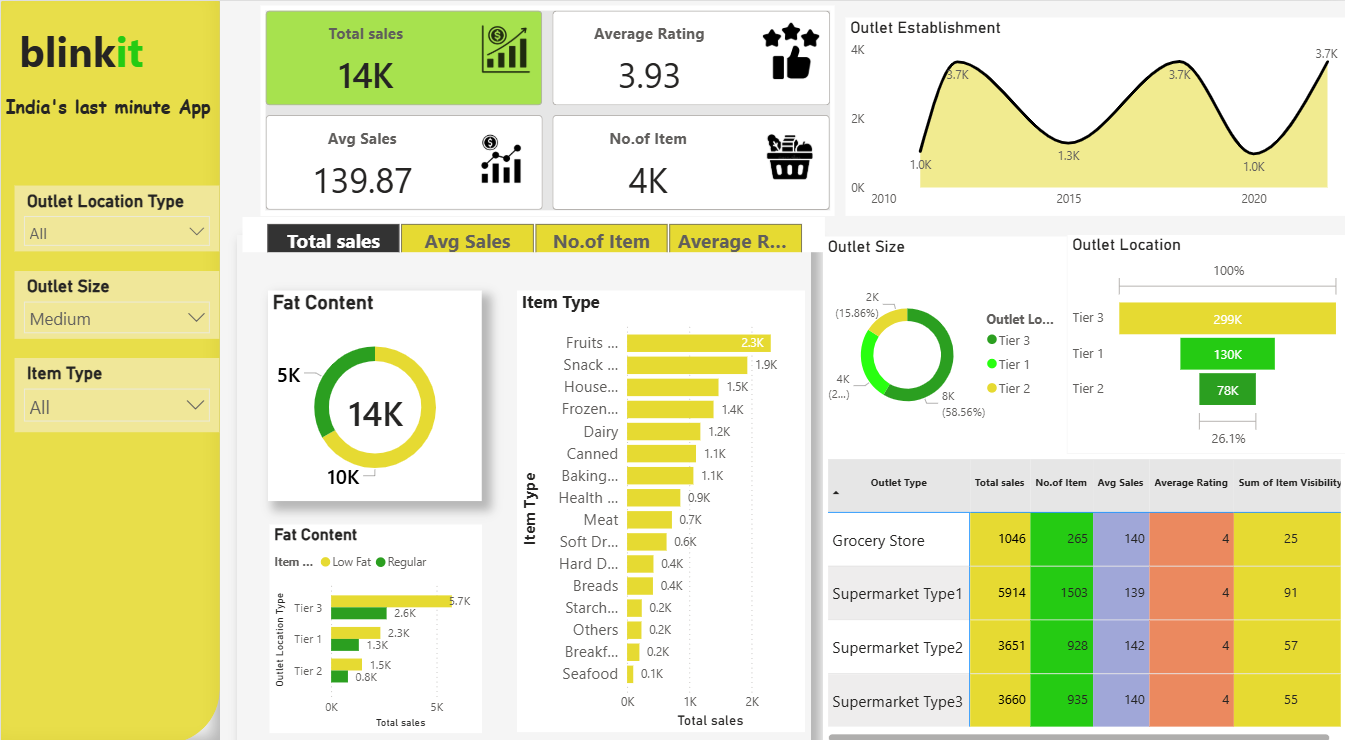

The dashboard page shown, as its layout file describes it:
{"tool":"powerbi","page":{"name":"Page 1","canvas":[1400,800],"ordinal":0},"visuals":[{"type":"shape","box":[0,0,228,774],"z":0},{"type":"textbox","box":[14.3,17.5,163.9,73.2],"z":1000},{"type":"textbox","box":[0,90.7,237.1,46.2],"z":2000},{"type":"cardVisual","fields":{"Data":["BlinkIT-Grocery-Data.Total sales","BlinkIT-Grocery-Data.Avg Sales","BlinkIT-Grocery-Data.Average Rating","BlinkIT-Grocery-Data.No.of Item"]},"box":[270.3,4.4,598.1,219.3],"z":3000},{"type":"shape","box":[246,243,598,541],"z":4000},{"type":"slicer","fields":{"Values":["Matrics.Matrics"]},"box":[251.5,224.4,606.4,36.6],"z":5000},{"type":"donutChart","title":"  Fat Content","fields":{"Y":["BlinkIT-Grocery-Data.Total sales"],"Category":["BlinkIT-Grocery-Data.Item Fat Content"]},"box":[278.5,300.8,222.8,219.6],"z":6000},{"type":"card","fields":{"Values":["BlinkIT-Grocery-Data.Total sales"]},"box":[317,387.6,146.4,82.7],"z":7000},{"type":"clusteredBarChart","title":"Fat Content","fields":{"Category":["BlinkIT-Grocery-Data.Outlet Location Type"],"Y":["BlinkIT-Grocery-Data.Total sales"],"Series":["BlinkIT-Grocery-Data.Item Fat Content"]},"box":[279.1,544.9,221.5,217.1],"z":8000},{"type":"barChart","title":" Item Type","fields":{"Y":["BlinkIT-Grocery-Data.Total sales"],"Category":["BlinkIT-Grocery-Data.Item Type"]},"box":[538,301,300,460],"z":9000},{"type":"lineChart","title":"Outlet Establishment","fields":{"Y":["BlinkIT-Grocery-Data.Total sales"],"Category":["BlinkIT-Grocery-Data.Outlet Establishment Year"]},"box":[880.1,17.5,520.4,206.9],"z":10000},{"type":"donutChart","title":"Outlet Size","fields":{"Y":["BlinkIT-Grocery-Data.Total sales"],"Category":["BlinkIT-Grocery-Data.Outlet Location Type"]},"box":[857,245,254,227],"z":11000},{"type":"funnel","title":" Outlet Location ","fields":{"Y":["Sum(BlinkIT-Grocery-Data.Sales)"],"Category":["BlinkIT-Grocery-Data.Outlet Location Type"]},"box":[1110.9,243.5,289.7,227.6],"z":12000},{"type":"pivotTable","fields":{"Rows":["BlinkIT-Grocery-Data.Outlet Type"],"Values":["BlinkIT-Grocery-Data.Total sales","BlinkIT-Grocery-Data.No.of Item","BlinkIT-Grocery-Data.Avg Sales","BlinkIT-Grocery-Data.Average Rating","Sum(BlinkIT-Grocery-Data.Item Visibility)"]},"box":[857,472,544,305],"z":13000},{"type":"slicer","fields":{"Values":["BlinkIT-Grocery-Data.Outlet Location Type"]},"box":[13.8,192.9,213.6,68.9],"z":14000},{"type":"slicer","fields":{"Values":["BlinkIT-Grocery-Data.Outlet Size"]},"box":[13.8,280.8,213.6,70.6],"z":15000},{"type":"slicer","fields":{"Values":["BlinkIT-Grocery-Data.Item Type"]},"box":[13.8,372.1,213.6,77.5],"z":16000}]}

Visuals, with their boxes on the page's 1400x800 design canvas (x1, y1, x2, y2). These are canvas units, not pixel positions in the 1345x740 screenshot, which may show the page scaled, cropped or inside an application window:
shape: <box>0,0,228,774</box>
textbox: <box>14,18,178,91</box>
textbox: <box>0,91,237,137</box>
cardVisual - BlinkIT-Grocery-Data.Total sales x BlinkIT-Grocery-Data.Avg Sales: <box>270,4,868,224</box>
shape: <box>246,243,844,784</box>
slicer - Matrics.Matrics: <box>252,224,858,261</box>
"  Fat Content" donutChart: <box>278,301,501,520</box>
card - BlinkIT-Grocery-Data.Total sales: <box>317,388,463,470</box>
"Fat Content" clusteredBarChart: <box>279,545,501,762</box>
" Item Type" barChart: <box>538,301,838,761</box>
"Outlet Establishment" lineChart: <box>880,18,1400,224</box>
"Outlet Size" donutChart: <box>857,245,1111,472</box>
" Outlet Location " funnel: <box>1111,244,1401,471</box>
pivotTable - BlinkIT-Grocery-Data.Outlet Type x BlinkIT-Grocery-Data.Total sales: <box>857,472,1401,777</box>
slicer - BlinkIT-Grocery-Data.Outlet Location Type: <box>14,193,227,262</box>
slicer - BlinkIT-Grocery-Data.Outlet Size: <box>14,281,227,351</box>
slicer - BlinkIT-Grocery-Data.Item Type: <box>14,372,227,450</box>
